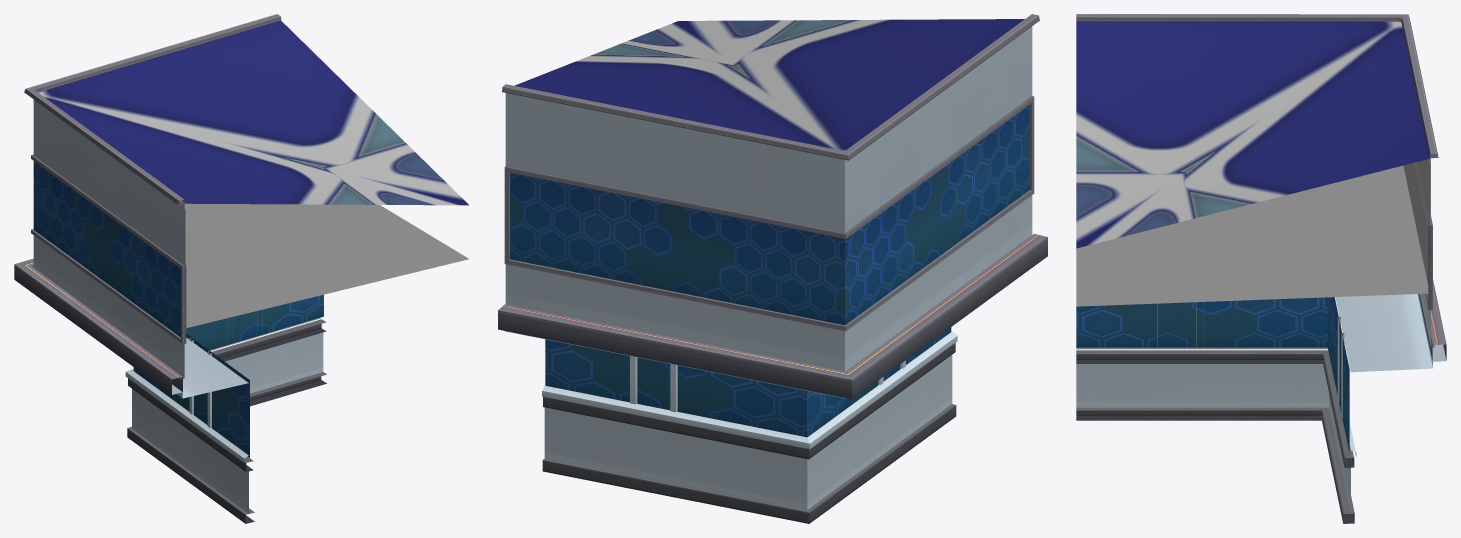
The model's file is mesh_1002_props04_1a.FBX.
The picture shows the model from 3 angles, left to right: view 1: azimuth 30°, elevation 25°; view 2: azimuth 150°, elevation 25°; view 3: azimuth 270°, elevation 25°; orthographic projection. The views are drawn at different scales.
Parts seen in each view (by area): view 1: mesh_1002_props4d_1, mesh_1002_props04a_1, mesh_1002_props02f001_1, mesh_1002_props04c_1, mesh_1002_props04b_1; view 2: mesh_1002_props04a_1, mesh_1002_props04c_1, mesh_1002_props4d_1, mesh_1002_props04b_1; view 3: mesh_1002_props4d_1, mesh_1002_props02f001_1, mesh_1002_props04a_1, mesh_1002_props04c_1, mesh_1002_props04b_1.
Boxes of the visible parts, box(x1,y1,x2,y2) form: mesh_1002_props4d_1: box(38, 20, 468, 205); mesh_1002_props04a_1: box(33, 99, 323, 513); mesh_1002_props02f001_1: box(184, 203, 468, 327); mesh_1002_props04c_1: box(24, 14, 323, 457); mesh_1002_props04b_1: box(14, 258, 326, 523); mesh_1002_props04a_1: box(505, 26, 1032, 509); mesh_1002_props04c_1: box(502, 14, 1039, 437); mesh_1002_props4d_1: box(514, 19, 1024, 150); mesh_1002_props04b_1: box(498, 233, 1047, 523); mesh_1002_props4d_1: box(1076, 21, 1430, 248); mesh_1002_props02f001_1: box(1076, 159, 1429, 306); mesh_1002_props04a_1: box(1076, 158, 1446, 513); mesh_1002_props04c_1: box(1076, 14, 1438, 452); mesh_1002_props04b_1: box(1076, 280, 1446, 523).
Size of the model in its own units: 1498 by 1631 by 1493.
